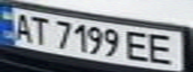1: (69, 21, 87, 53)
7: (48, 18, 72, 50)
9: (103, 26, 124, 60), (84, 24, 106, 56)
A: (9, 10, 36, 43)
E: (145, 30, 184, 68), (124, 29, 154, 63)
T: (27, 14, 54, 45)
